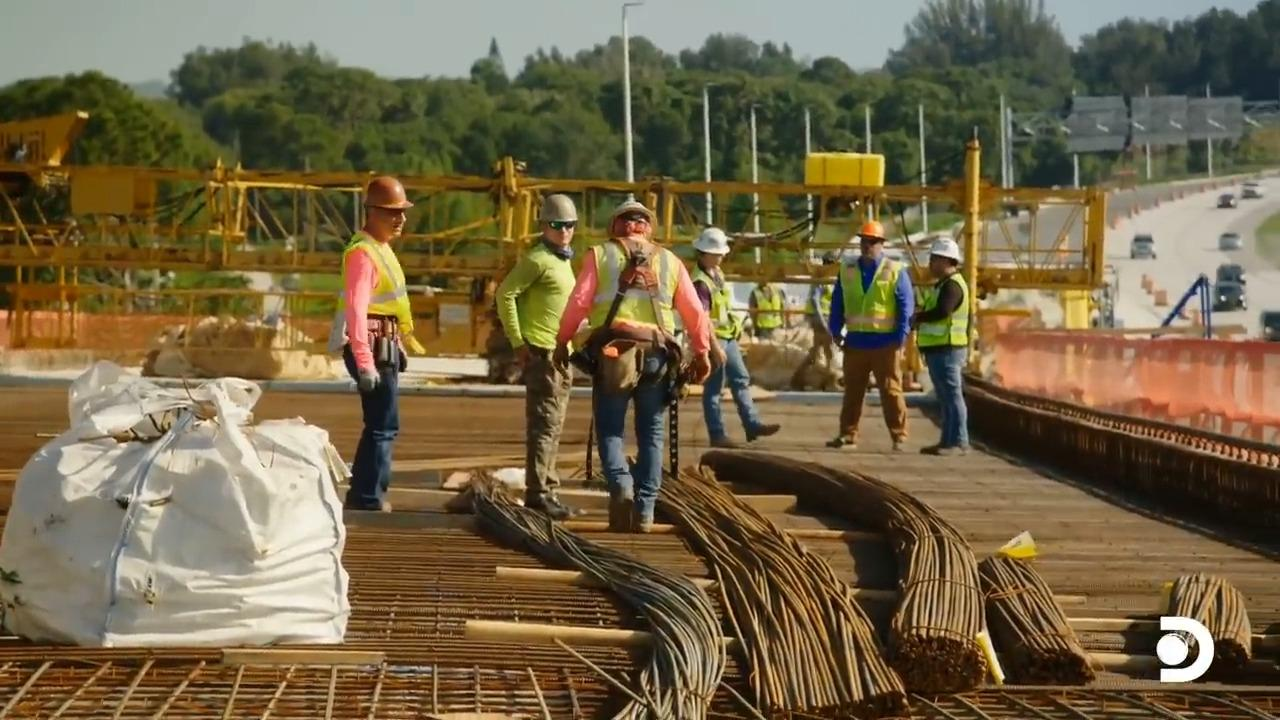Gloves: (355, 361, 382, 386)
Helmet: (363, 175, 414, 209), (607, 200, 656, 234), (536, 193, 578, 223), (691, 227, 730, 255), (929, 237, 963, 264), (856, 220, 886, 240)
Person: (552, 200, 711, 533), (337, 175, 426, 512), (494, 193, 583, 519), (682, 226, 782, 448), (825, 220, 914, 452), (909, 236, 973, 456)
Safety Boot: (610, 498, 661, 527), (523, 494, 571, 524), (737, 414, 778, 445), (347, 494, 396, 517), (706, 429, 742, 448), (823, 438, 862, 452), (925, 442, 958, 456), (888, 443, 913, 460)
Safety Vest: (596, 259, 671, 353), (344, 247, 405, 340), (841, 265, 895, 329), (924, 284, 967, 351), (696, 275, 731, 332)
bare-arms: (686, 353, 709, 383), (511, 342, 533, 368), (549, 348, 571, 374), (714, 344, 732, 373)
no-vest: (515, 249, 576, 345)
